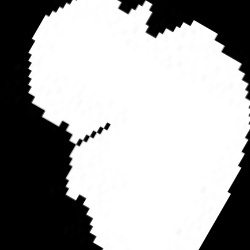spot: (28, 2, 246, 248)
